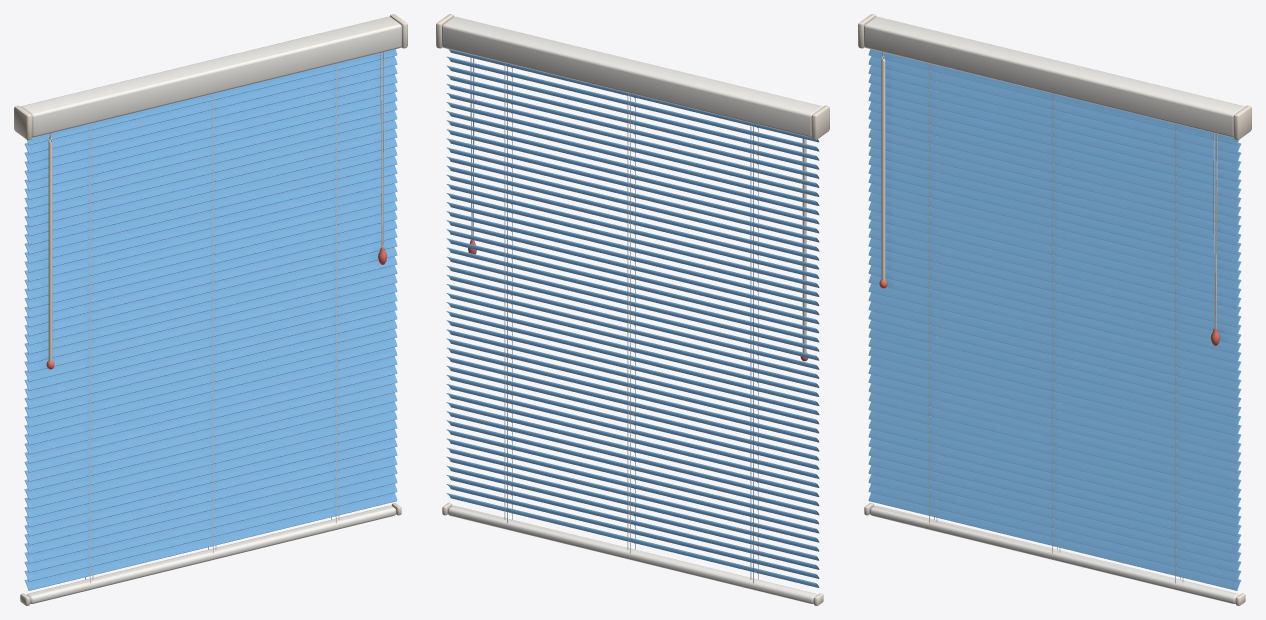
The model's file is blinds.glb.
3 views of the same model, side by side, from view 1: azimuth 30°, elevation 25°; view 2: azimuth 150°, elevation 25°; view 3: azimuth 330°, elevation 25° (orthographic).
Visible parts, largest first — view 1: blinds_body; view 2: blinds_body; view 3: blinds_body.
Boxes of the visible parts, x1,y1,x2,y2 form: blinds_body: (14, 14, 407, 605); blinds_body: (436, 14, 829, 605); blinds_body: (858, 14, 1251, 605).
Bounding box in the file's own units: 0.93 × 1.15 × 0.063.
1 material, 1 textured.
